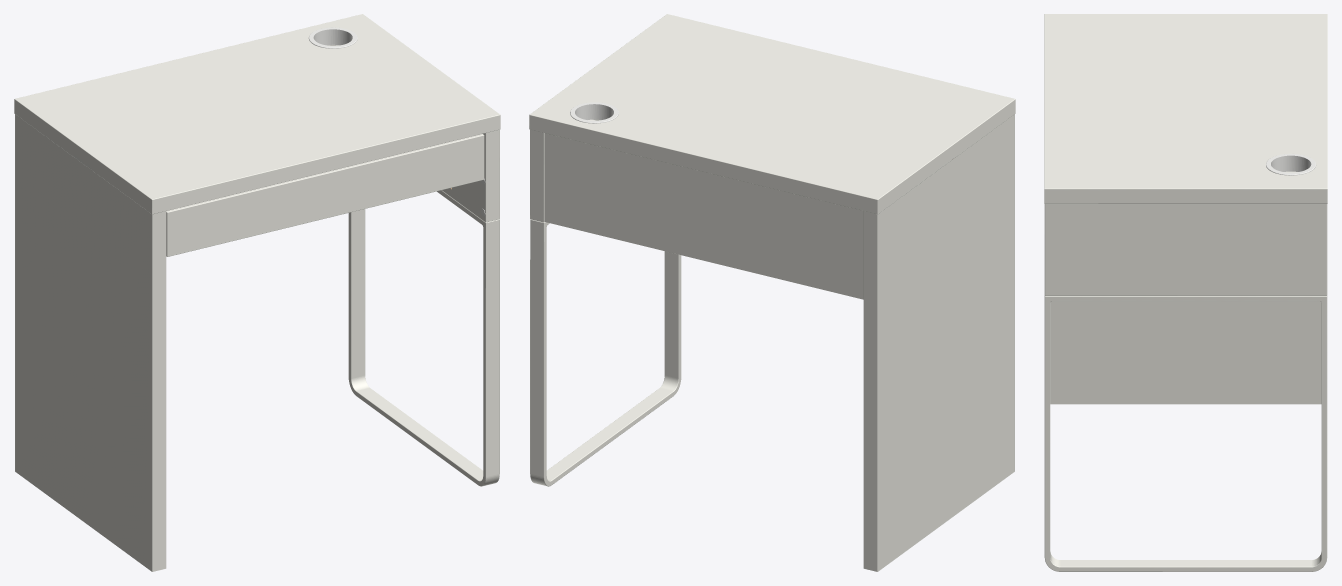
The picture shows the model from 3 angles, left to right: view 1: azimuth 30°, elevation 25°; view 2: azimuth 150°, elevation 25°; view 3: azimuth 270°, elevation 25°; orthographic projection. The views are drawn at different scales.
Visible parts, largest first — view 1: world; view 2: world; view 3: world.
Boxes of the visible parts, x1,y1,x2,y2 form: world: (14, 14, 500, 571); world: (529, 14, 1015, 571); world: (1044, 14, 1327, 571).
Bounding box in the file's own units: 0.73 × 0.75 × 0.5.
Materials: 1 (1 with a texture image).
